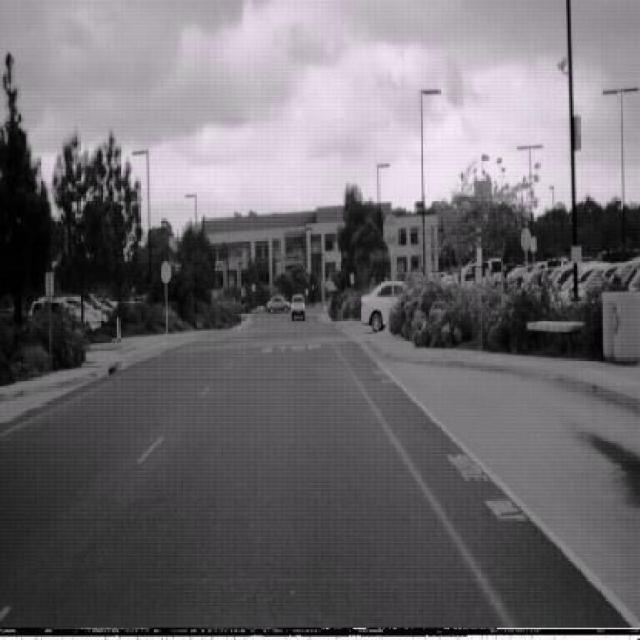stop: (382, 214, 398, 248)
